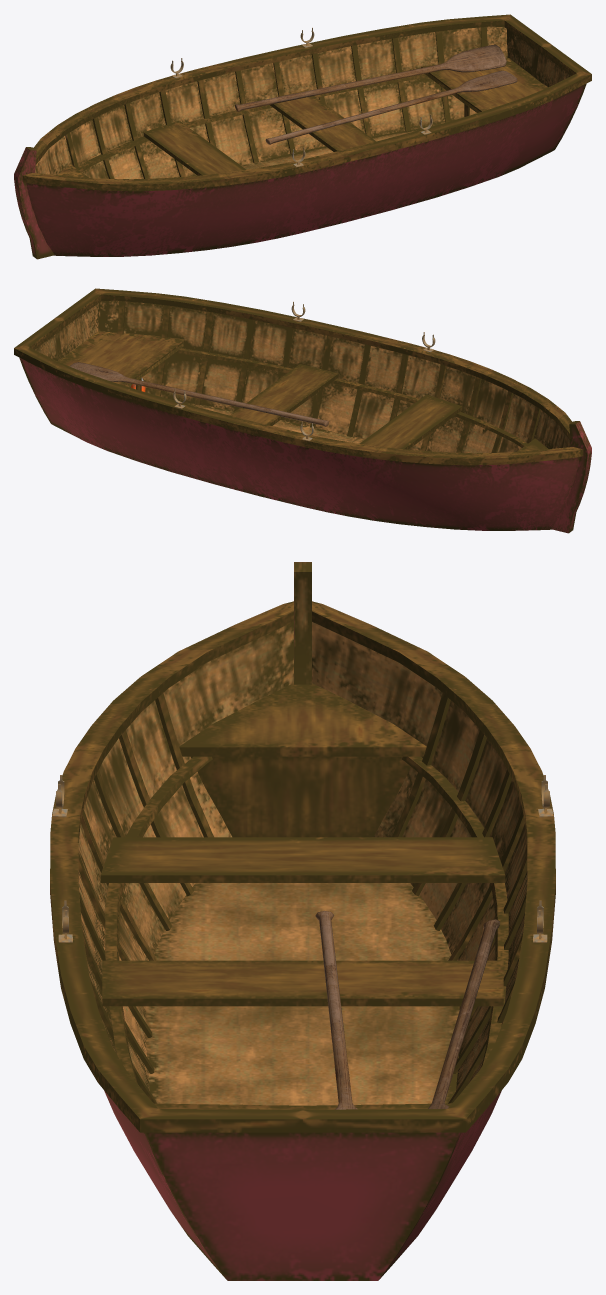
The model's file is dinghy.glb.
The picture shows the model from 3 angles, top to bottom: view 1: azimuth 30°, elevation 25°; view 2: azimuth 150°, elevation 25°; view 3: azimuth 270°, elevation 25°; orthographic projection. The views are drawn at different scales.
Parts seen in each view (by area): view 1: Object_3, Object_4; view 2: Object_3, Object_4; view 3: Object_3, Object_4.
Boxes of the visible parts, box(x1,y1,x2,y2) form: Object_3: box(14, 14, 591, 259); Object_4: box(235, 44, 517, 144); Object_3: box(14, 288, 591, 533); Object_4: box(69, 362, 328, 426); Object_3: box(50, 562, 555, 1280); Object_4: box(315, 911, 499, 1109).
Size of the model in its own units: 1101 by 224 by 451.
3 materials, 3 textured.
